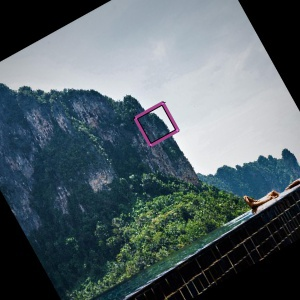square: (130, 99, 182, 148)
